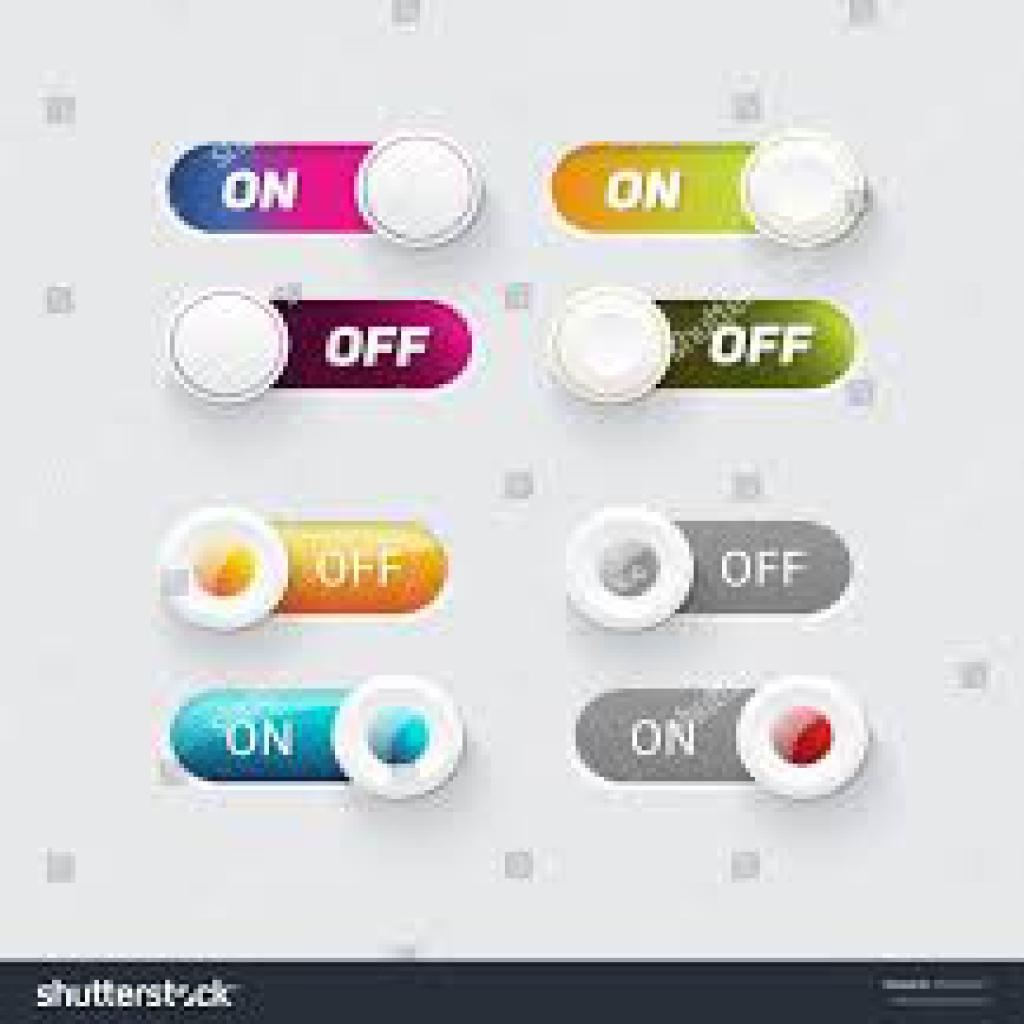switch: (539, 126, 881, 257), (152, 504, 469, 634), (563, 668, 874, 797), (532, 281, 869, 400), (168, 128, 495, 249), (563, 504, 863, 632), (166, 283, 472, 407), (152, 678, 480, 793)
